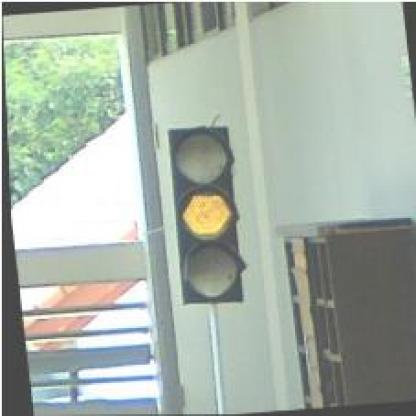yellow: (158, 124, 248, 305)
